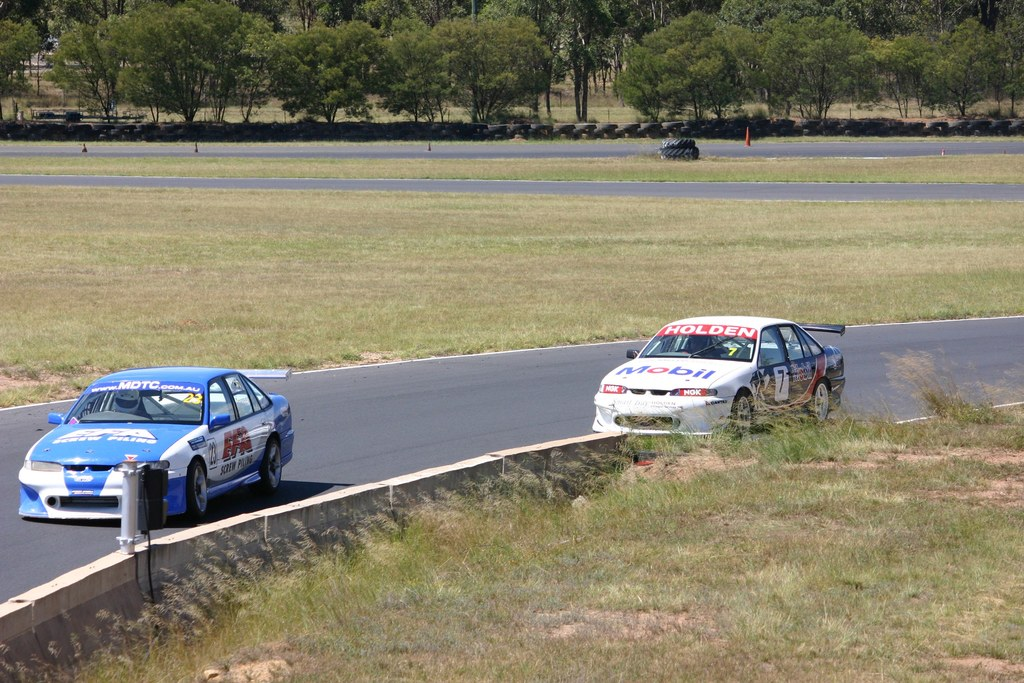Car: (16, 363, 287, 528), (595, 311, 840, 440)
